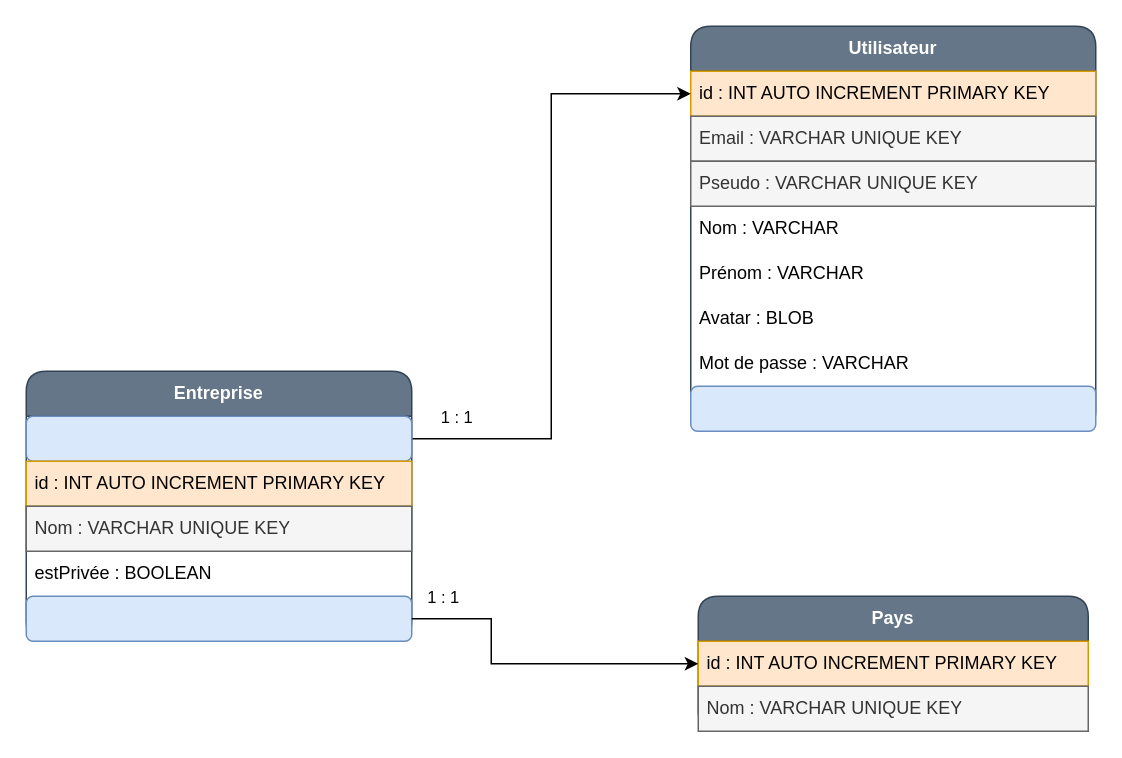
Image size: 1122x758. Some labels were removed from this diagram. Here are the shapes that lost their labels. From the top down, the centre of each, then its label:
the point at 892,408: idEntreprise : INT FOREIGN KEY
the point at 218,438: idCEO : INT FOREIGN KEY
the point at 218,618: idPays : INT FOREIGN KEY
